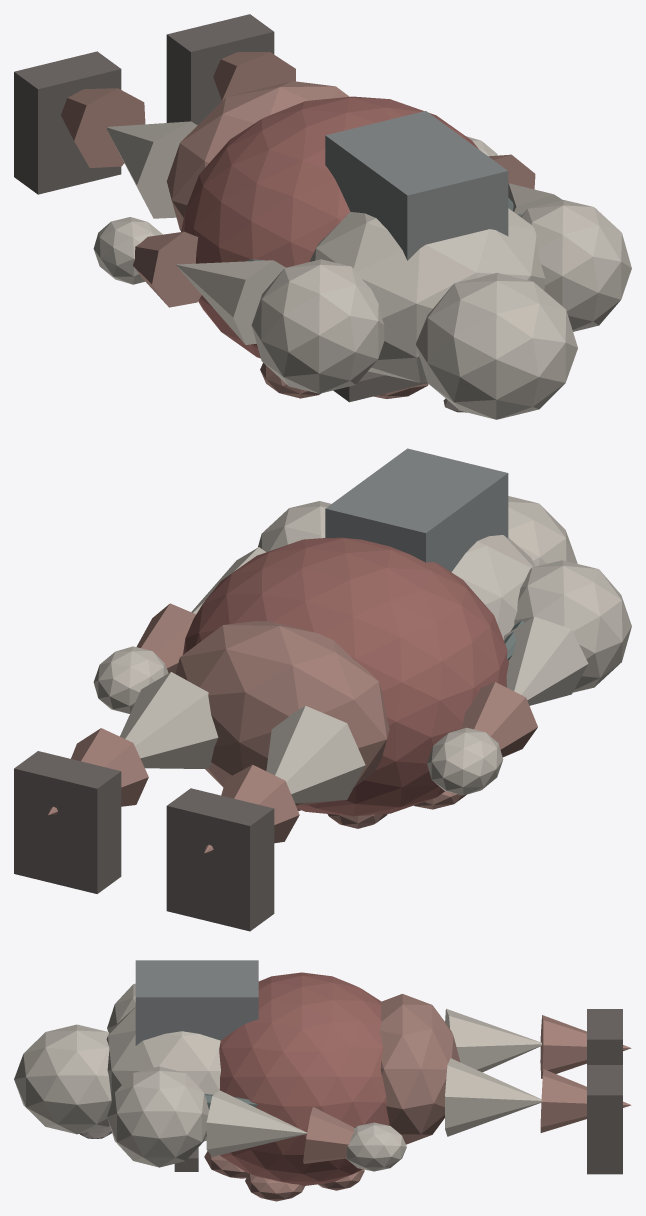
File: afterfall_carrier.glb
3 views of the same model, one above another, from view 1: azimuth 30°, elevation 25°; view 2: azimuth 150°, elevation 25°; view 3: azimuth 270°, elevation 25° (orthographic). The views are drawn at different scales.
Parts seen in each view (by area): view 1: 00_bloated_abdomen, 27_back_canister, 03_head, 01_upper_torso, 10_shoulder, 16_boot, 17_shoulder, 23_boot, 02_pelvis, 14_thigh, 11_upper_arm, 15_shin (+7 smaller); view 2: 00_bloated_abdomen, 02_pelvis, 27_back_canister, 16_boot, 23_boot, 10_shoulder, 14_thigh, 21_thigh, 11_upper_arm, 01_upper_torso, 13_hand, 12_forearm (+6 smaller); view 3: 00_bloated_abdomen, 27_back_canister, 02_pelvis, 03_head, 17_shoulder, 01_upper_torso, 21_thigh, 23_boot, 18_upper_arm, 14_thigh, 22_shin, 20_hand (+8 smaller).
Part boxes in pixels (bbox=[...]): 00_bloated_abdomen: bbox=[181, 96, 478, 358]; 27_back_canister: bbox=[325, 111, 508, 260]; 03_head: bbox=[415, 272, 577, 419]; 01_upper_torso: bbox=[309, 208, 545, 382]; 10_shoulder: bbox=[251, 259, 384, 393]; 16_boot: bbox=[14, 51, 121, 194]; 17_shoulder: bbox=[521, 200, 631, 331]; 23_boot: bbox=[166, 14, 274, 125]; 02_pelvis: bbox=[166, 81, 349, 230]; 14_thigh: bbox=[107, 121, 197, 218]; 11_upper_arm: bbox=[176, 260, 285, 344]; 15_shin: bbox=[61, 88, 145, 167]; 00_bloated_abdomen: bbox=[183, 537, 508, 816]; 02_pelvis: bbox=[175, 621, 389, 805]; 27_back_canister: bbox=[325, 448, 508, 571]; 16_boot: bbox=[166, 788, 274, 931]; 23_boot: bbox=[14, 751, 121, 893]; 10_shoulder: bbox=[514, 560, 631, 692]; 14_thigh: bbox=[266, 705, 365, 803]; 21_thigh: bbox=[120, 672, 218, 769]; 11_upper_arm: bbox=[504, 616, 588, 705]; 01_upper_torso: bbox=[451, 535, 534, 639]; 13_hand: bbox=[427, 727, 503, 795]; 12_forearm: bbox=[462, 682, 537, 757]; 00_bloated_abdomen: bbox=[219, 972, 389, 1185]; 27_back_canister: bbox=[135, 960, 258, 1045]; 02_pelvis: bbox=[379, 994, 460, 1144]; 03_head: bbox=[14, 1024, 111, 1134]; 17_shoulder: bbox=[107, 1066, 209, 1167]; 01_upper_torso: bbox=[106, 1007, 220, 1141]; 21_thigh: bbox=[445, 1058, 541, 1136]; 23_boot: bbox=[587, 1065, 622, 1174]; 18_upper_arm: bbox=[206, 1090, 306, 1156]; 14_thigh: bbox=[445, 1008, 541, 1072]; 22_shin: bbox=[540, 1069, 631, 1132]; 20_hand: bbox=[346, 1122, 406, 1171].
Bounding box in the file's own units: 2.28 × 1.43 × 4.12.
